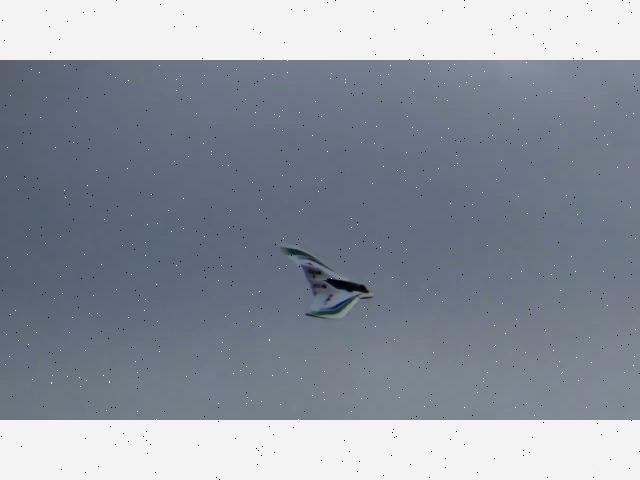Anti-Drone: (273, 238, 375, 322)
